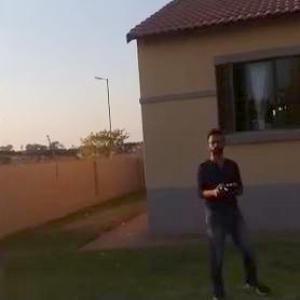follow: (194, 121, 278, 299)
